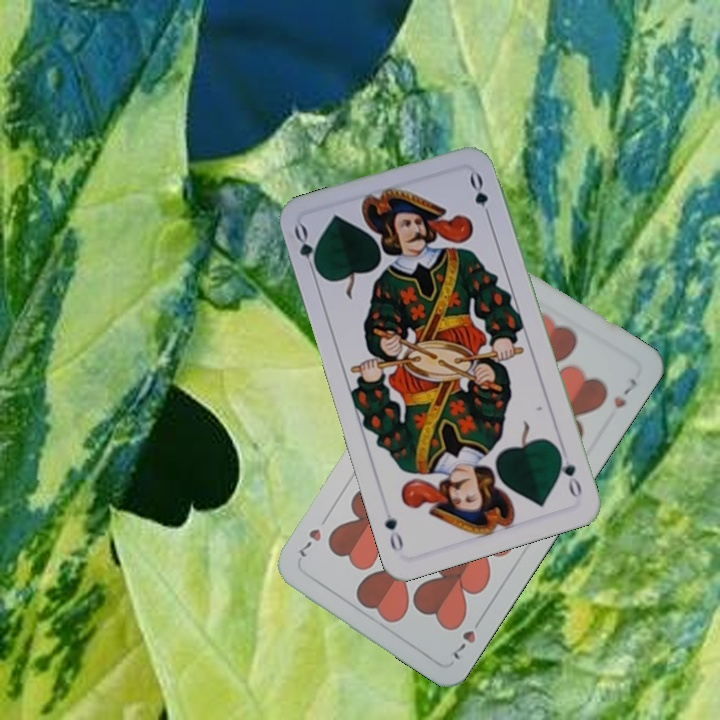GO: (289, 220, 323, 279), (553, 443, 585, 500)
H7: (448, 612, 486, 663)
